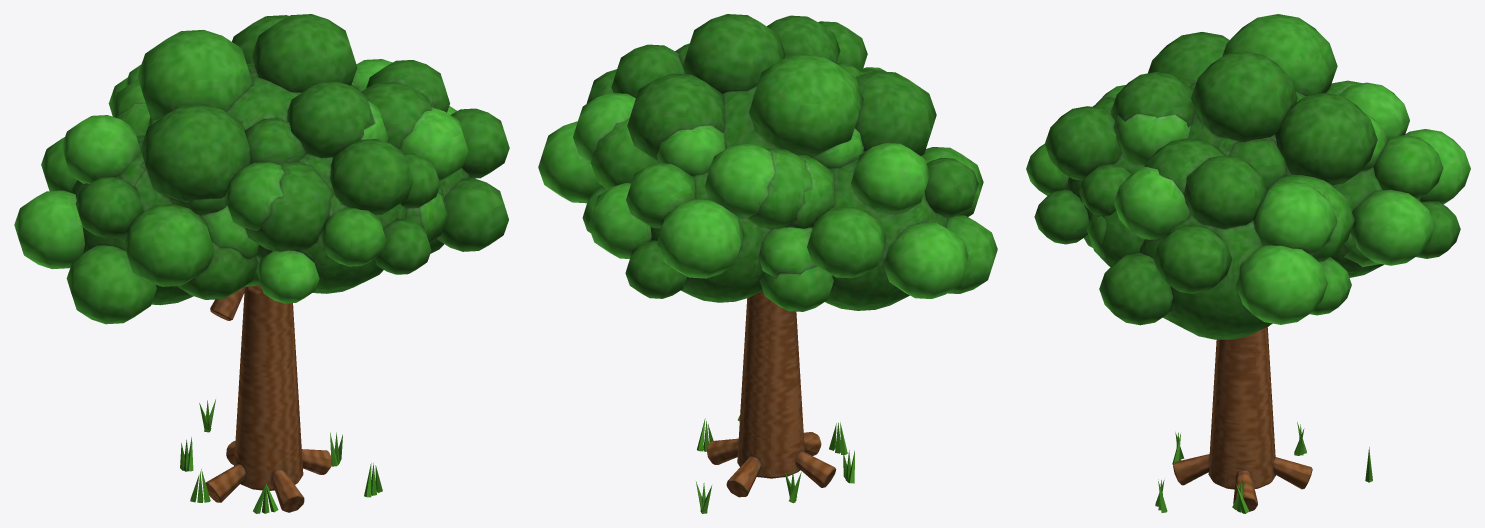
File: guava_tree.glb
3 renders of one model, left to right at view 1: azimuth 30°, elevation 25°; view 2: azimuth 150°, elevation 25°; view 3: azimuth 270°, elevation 25°, orthographic. The views are drawn at different scales.
Visible parts, largest first — view 1: crown, guava_tree; view 2: crown, guava_tree; view 3: crown, guava_tree.
Part boxes in pixels (bbox=[...]): crown: bbox=[14, 14, 509, 324]; guava_tree: bbox=[180, 285, 382, 513]; crown: bbox=[538, 14, 997, 311]; guava_tree: bbox=[696, 291, 854, 513]; crown: bbox=[1026, 14, 1470, 339]; guava_tree: bbox=[1155, 325, 1372, 513].
Bounding box in the file's own units: 1.3 × 1.3 × 1.17.
Materials: 1 (1 with a texture image).
